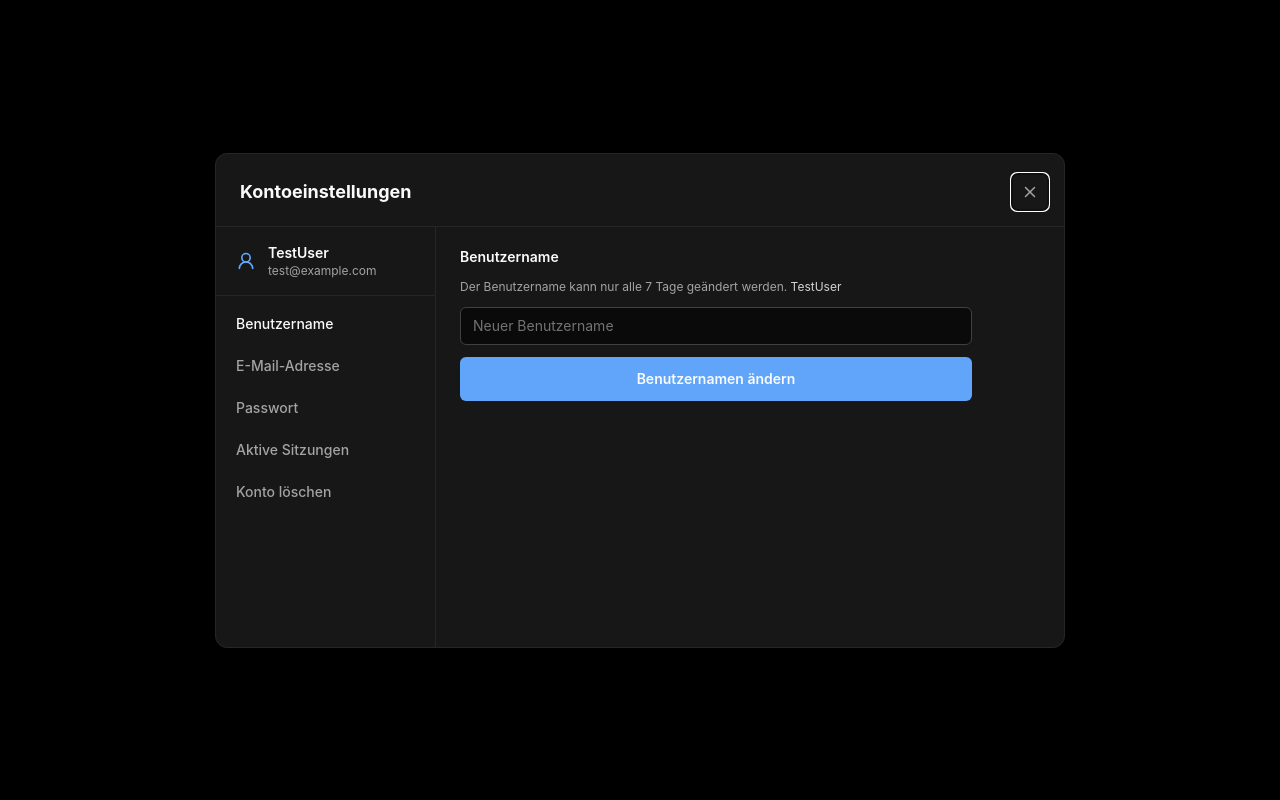
Scenario: AccountSettingsModal › switches sections when a different tab is clicked
The image size is (1280, 800).
expect the heading "Benutzername" is shown: met, box [460,248,559,264]
Step 1. Click the button "E-Mail-Adresse" → (326, 366), box [224,346,427,386]
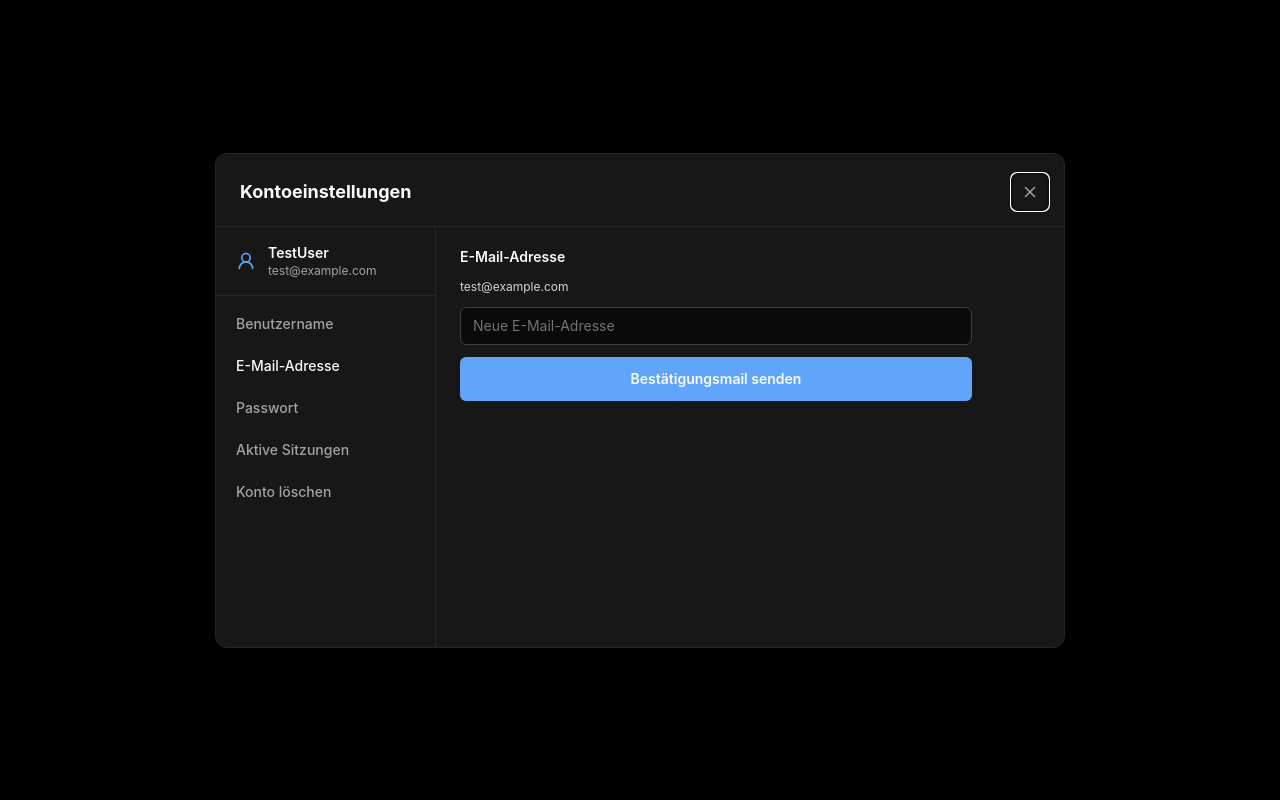
expect the heading "E-Mail-Adresse" is shown: met, box [460,248,565,264]
Step 2. Click the button "Passwort" → (326, 408), box [224,388,427,428]
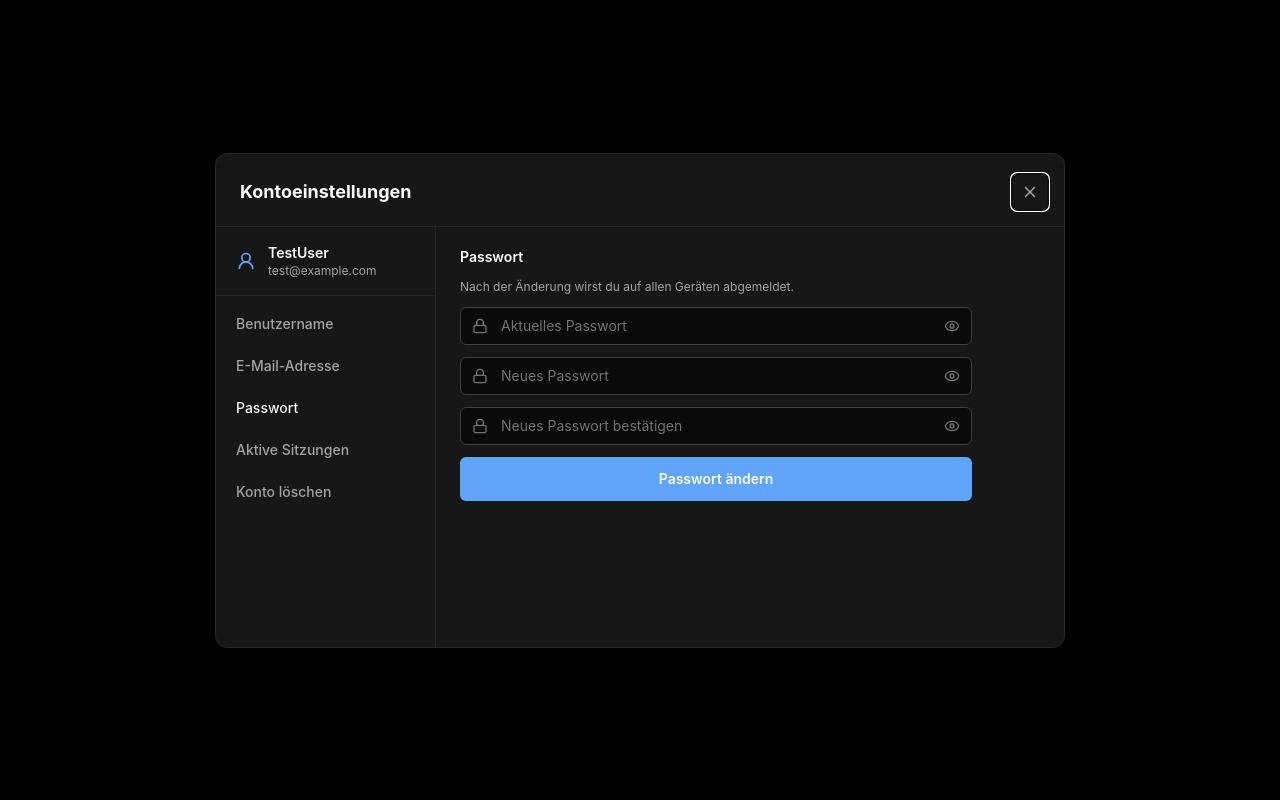
expect the heading "Passwort" is shown: met, box [460,248,523,264]
